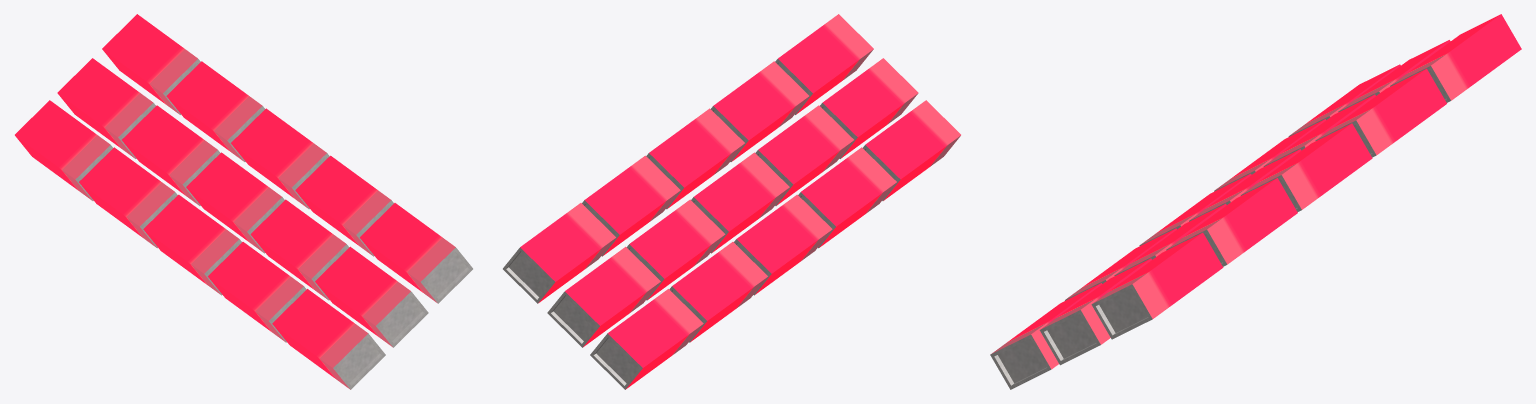
The model's file is Red_Tin_Candy.fbx.
3 renders of one model, left to right at view 1: azimuth 30°, elevation 25°; view 2: azimuth 150°, elevation 25°; view 3: azimuth 330°, elevation 25°, orthographic. The views are drawn at different scales.
Parts seen in each view (by area): view 1: Red_Tin_Candy; view 2: Red_Tin_Candy; view 3: Red_Tin_Candy.
Boxes of the visible parts, x1,y1,x2,y2 form: Red_Tin_Candy: (15,14,472,389); Red_Tin_Candy: (503,14,960,389); Red_Tin_Candy: (990,14,1521,389).
Size of the model in its own units: 16.22 by 12.91 by 63.69.
